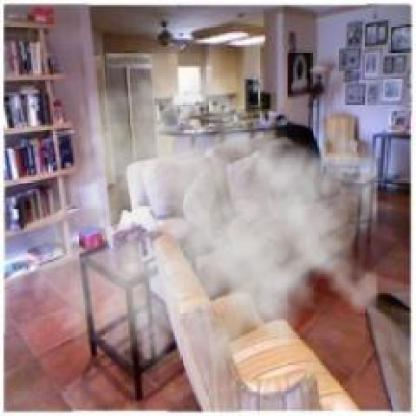Smoke: (23, 55, 377, 411)
